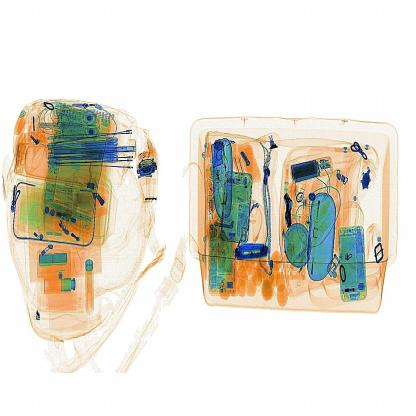scissors: (234, 240, 277, 268)
